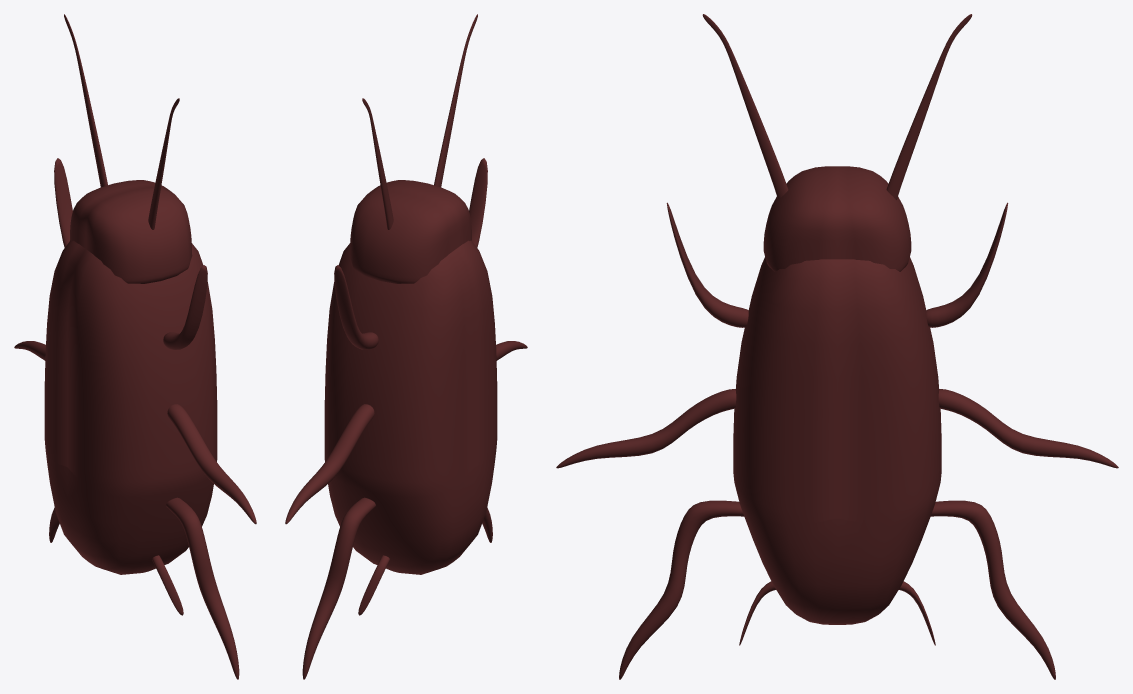
The model's file is cucaracha.glb.
3 views of the same model, side by side, from view 1: azimuth 30°, elevation 25°; view 2: azimuth 150°, elevation 25°; view 3: azimuth 270°, elevation 25° (orthographic). The views are drawn at different scales.
Parts seen in each view (by area): view 1: Cube.006; view 2: Cube.006; view 3: Cube.006.
Part boxes in pixels (left/top/right/bottom): Cube.006: left=14, top=14, right=256, bottom=679; Cube.006: left=285, top=14, right=527, bottom=679; Cube.006: left=556, top=14, right=1118, bottom=679.
Size of the model in its own units: 2 by 8.42 by 6.58.
